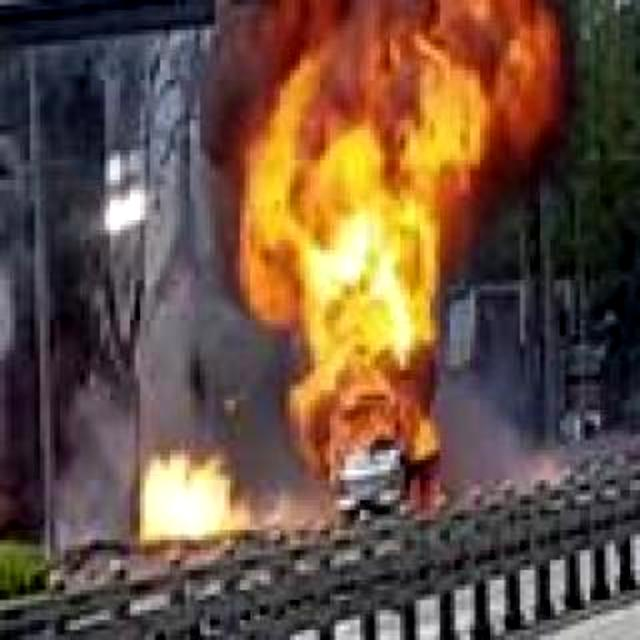fire: (215, 0, 562, 479)
